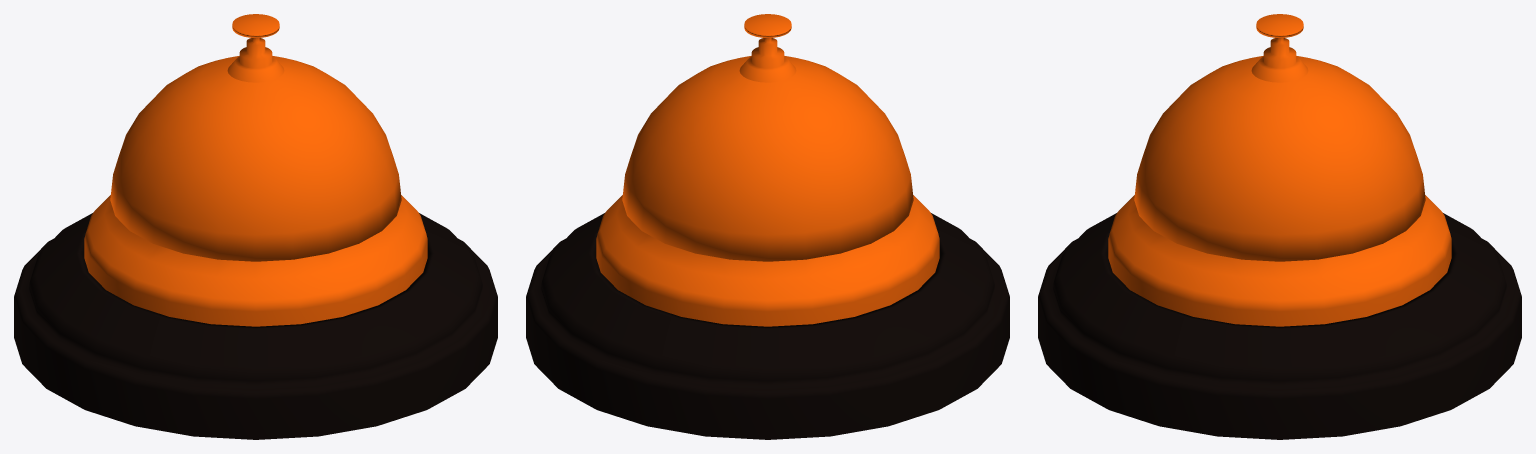
Rendered from SM_Bell.FBX.
3 views of the same model, side by side, from view 1: azimuth 30°, elevation 25°; view 2: azimuth 150°, elevation 25°; view 3: azimuth 270°, elevation 25° (orthographic).
Parts seen in each view (by area): view 1: SM_Bell; view 2: SM_Bell; view 3: SM_Bell.
Part boxes in pixels (bbox=[...]): SM_Bell: bbox=[14, 14, 497, 439]; SM_Bell: bbox=[526, 14, 1009, 439]; SM_Bell: bbox=[1038, 14, 1521, 439].
Size of the model in its own units: 25.2 by 25.2 by 18.14.
